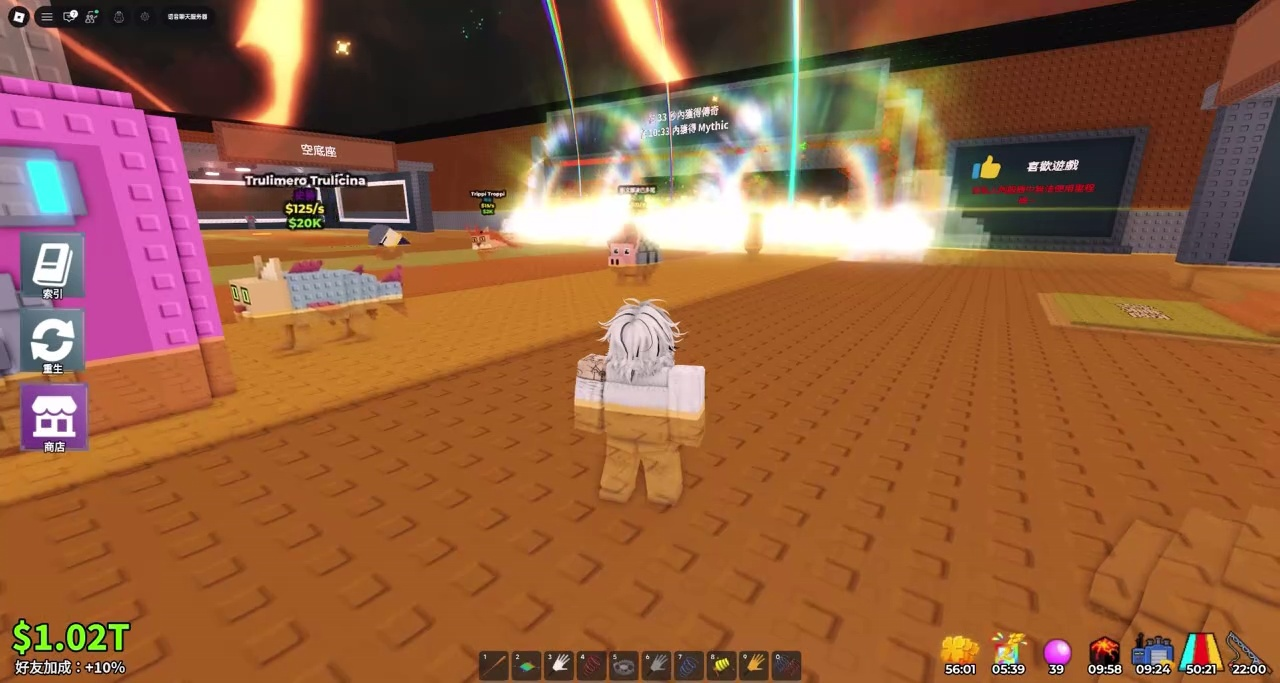price_tag: (244, 187, 286, 221)
